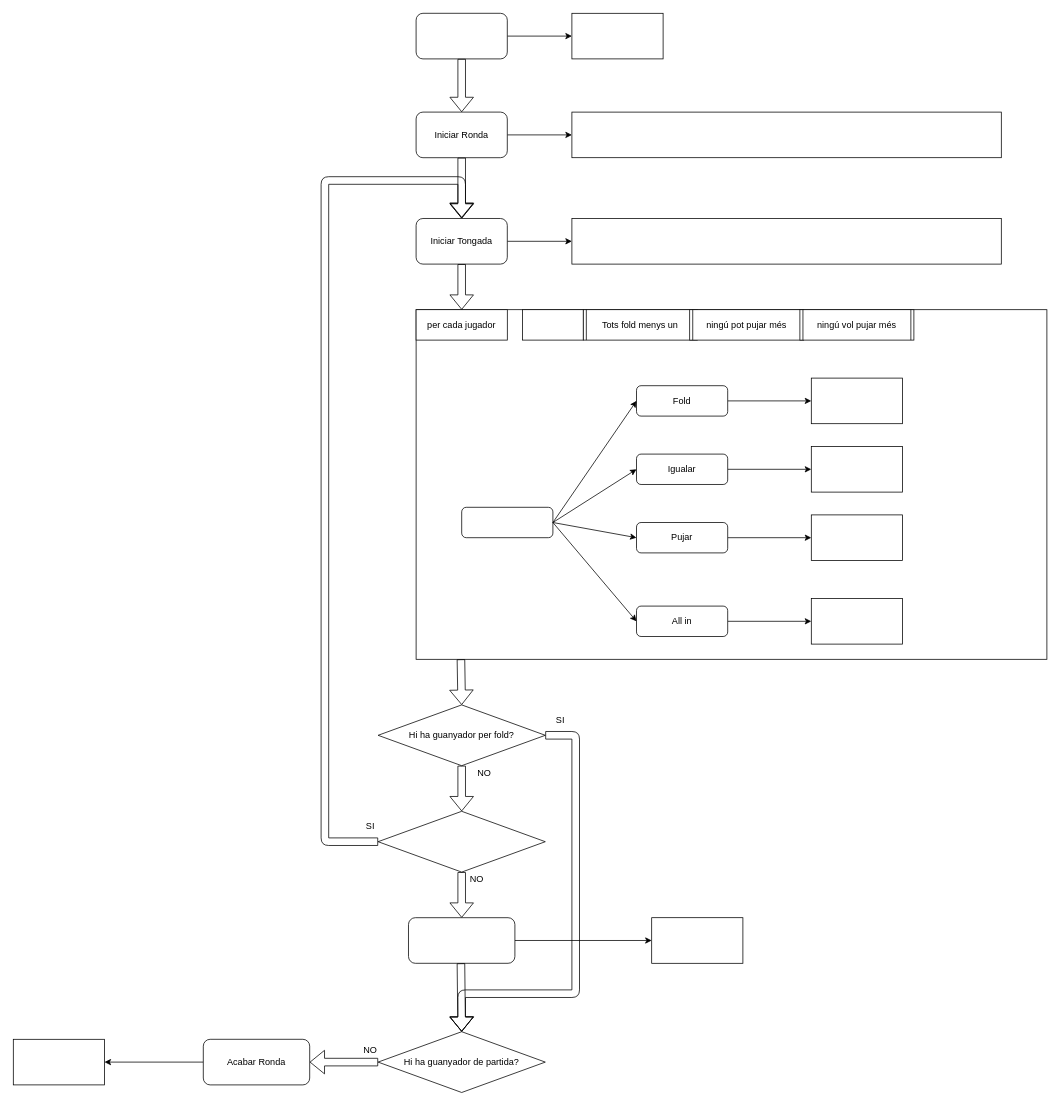
Image size: 1060x1106. Some labels were removed from this diagram. The centre of each missing label's shape, as x and y in pixels:
es resetejen els contadors de pujes i igualades: the point at 786,241
fins que:: the point at 552,324
Iniciar Joc: the point at 461,36
queden més tongades?: the point at 461,841
Seleccionar Guanyador: the point at 461,940
Torn Jugador: the point at 507,522
tots els jugadors deixen d'estar en fold -> es fan les apostes mínimes: the point at 786,134
